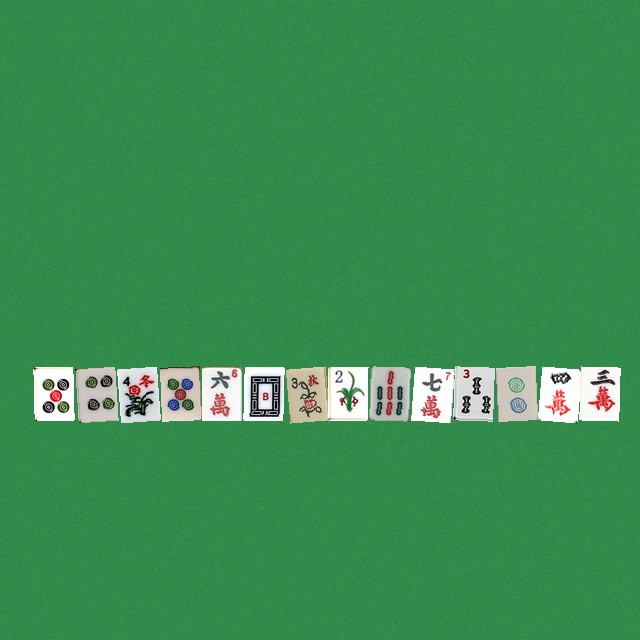tile: (33, 366, 73, 420), (75, 366, 115, 420), (117, 366, 157, 420), (159, 366, 199, 420), (201, 366, 241, 420), (243, 366, 283, 420), (285, 366, 325, 420), (327, 366, 367, 420), (369, 366, 409, 420), (411, 366, 451, 420), (453, 366, 493, 420), (495, 366, 535, 420), (537, 366, 577, 420), (579, 366, 619, 420)
